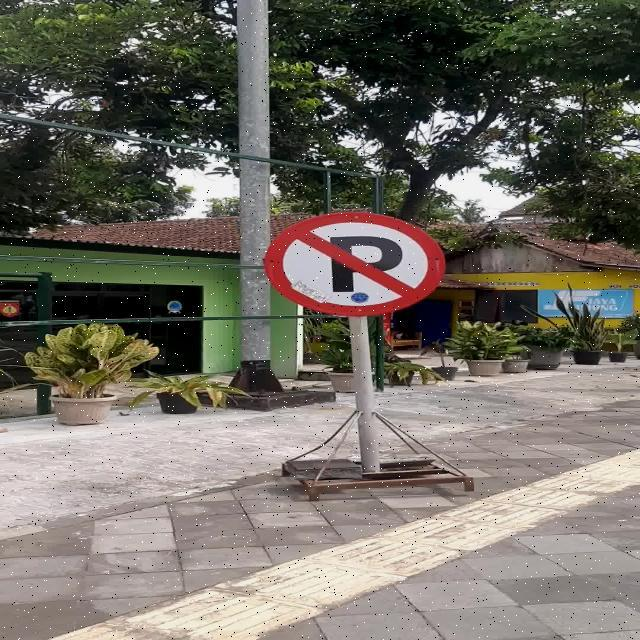Dilarang Parkir: (264, 212, 446, 316)
